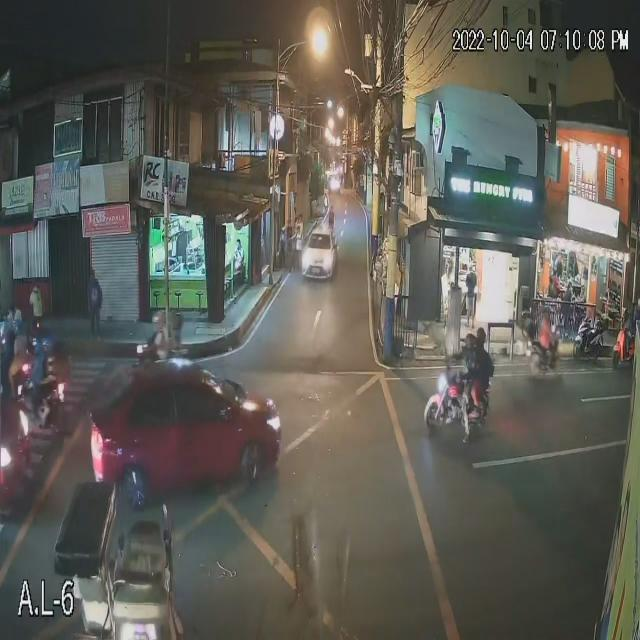helmet: (42, 335, 65, 354), (150, 310, 169, 330), (474, 327, 490, 346), (11, 318, 27, 337), (171, 310, 188, 327), (0, 320, 16, 338), (462, 331, 475, 350), (32, 336, 45, 352)
motorcycle: (425, 374, 493, 434), (16, 376, 67, 431), (575, 319, 608, 363), (522, 338, 560, 376), (131, 345, 190, 362)
rider: (451, 351, 479, 441), (467, 348, 496, 420), (39, 355, 61, 417), (25, 353, 43, 416), (537, 319, 557, 371), (11, 336, 30, 390), (0, 338, 14, 390), (152, 329, 167, 362), (169, 328, 183, 358)
